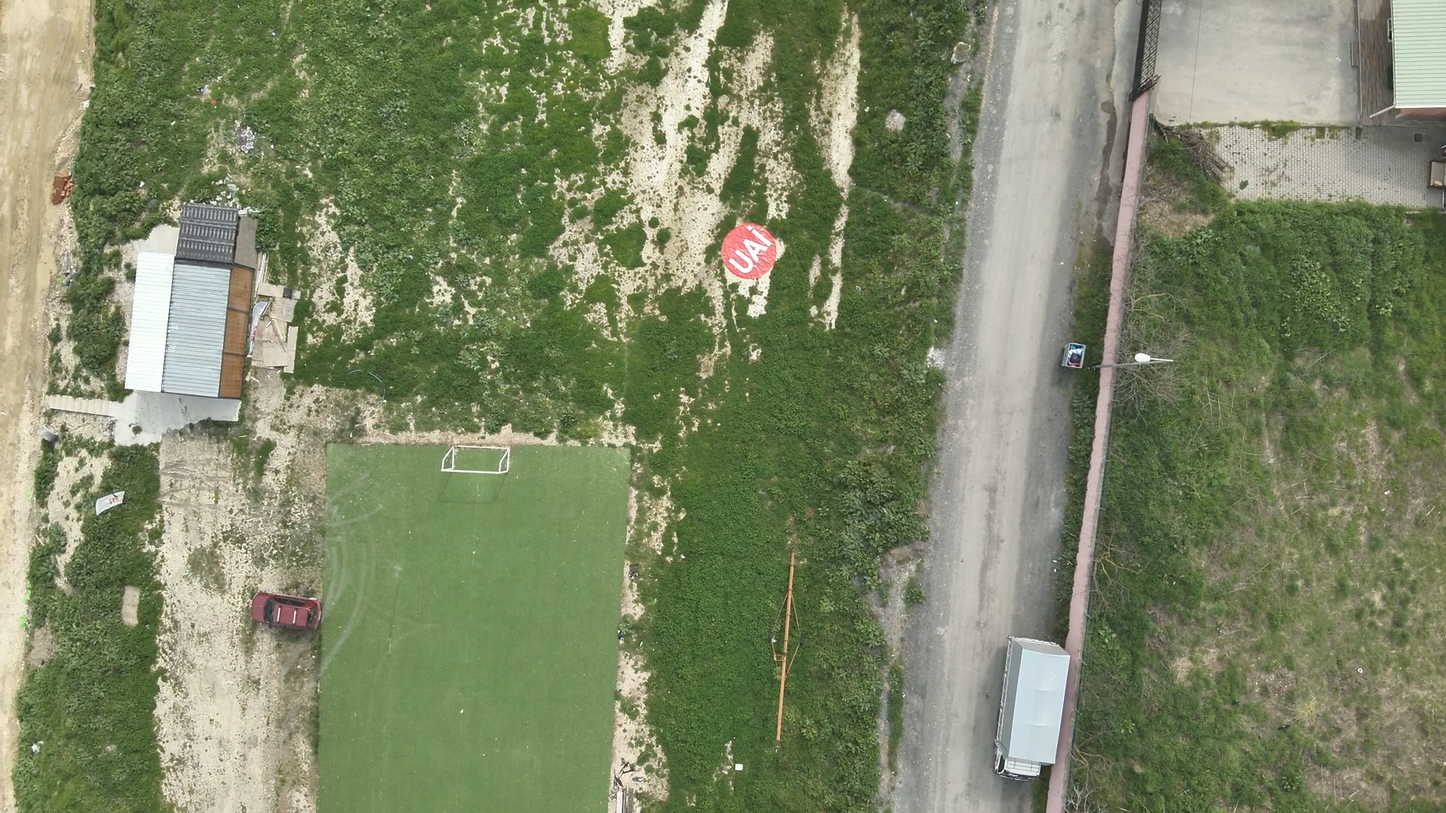UAI: (720, 222, 778, 279)
vehicle: (992, 634, 1071, 779), (249, 590, 324, 631)
